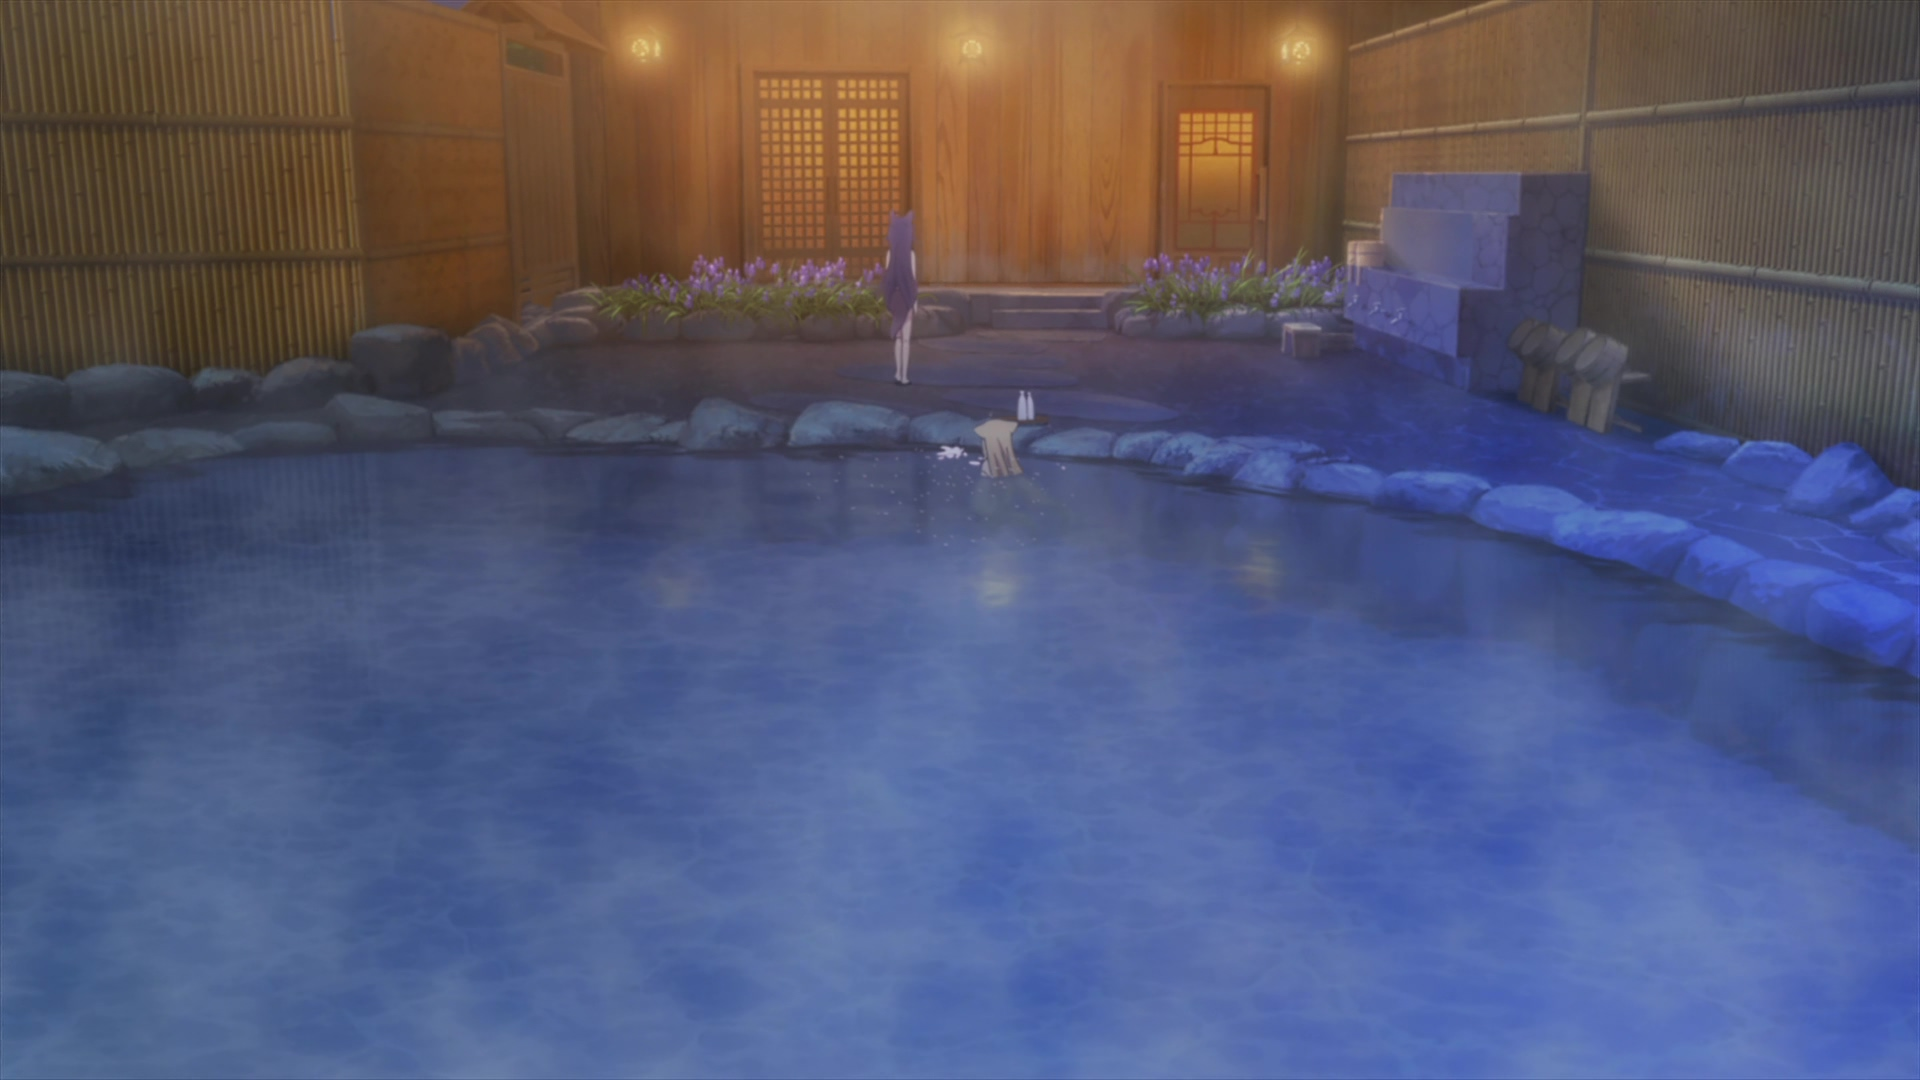柚: (972, 418, 1068, 535)
皋: (882, 210, 920, 385)
